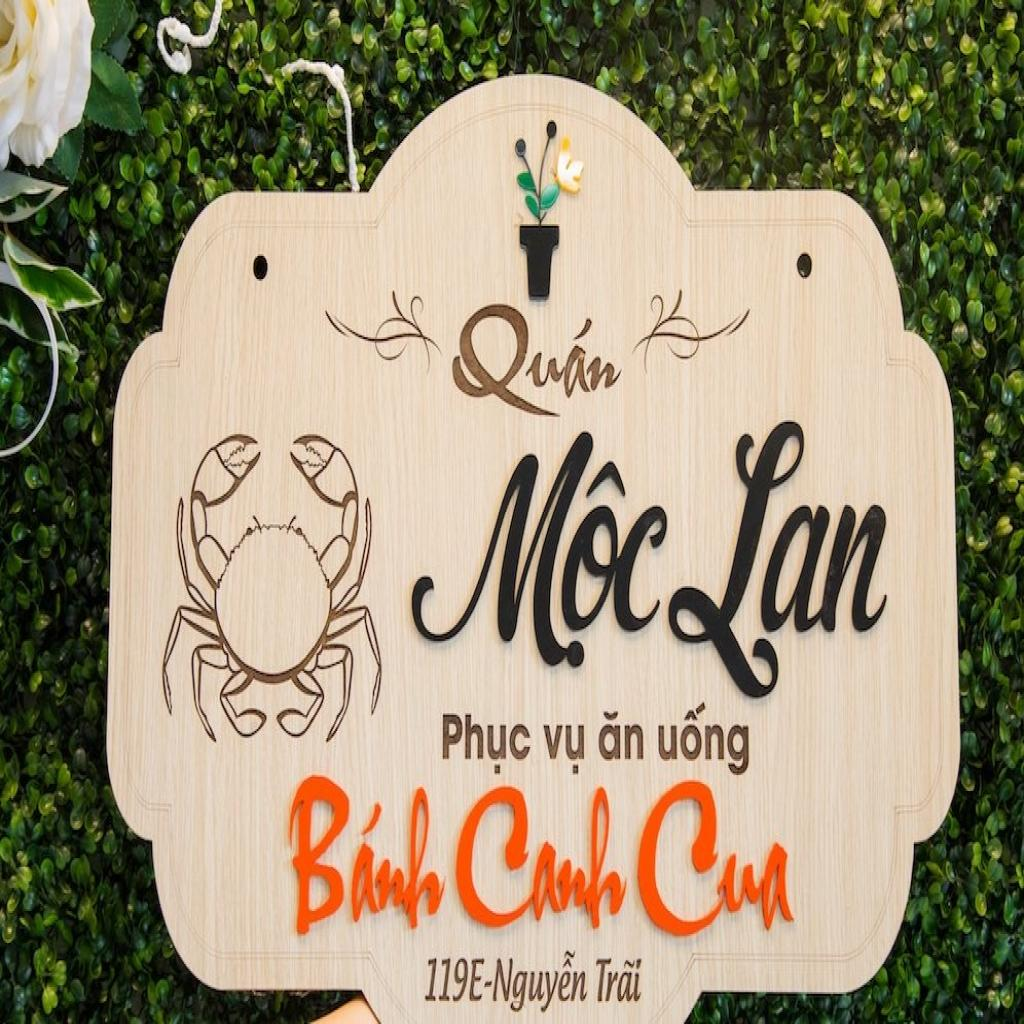text: (650, 399, 909, 719), (386, 417, 686, 690), (450, 784, 630, 948), (636, 774, 797, 954), (286, 779, 451, 941), (444, 297, 625, 422), (488, 944, 594, 1020), (652, 700, 752, 780), (438, 712, 539, 786), (420, 952, 488, 1008), (538, 714, 588, 780), (594, 706, 645, 765)
